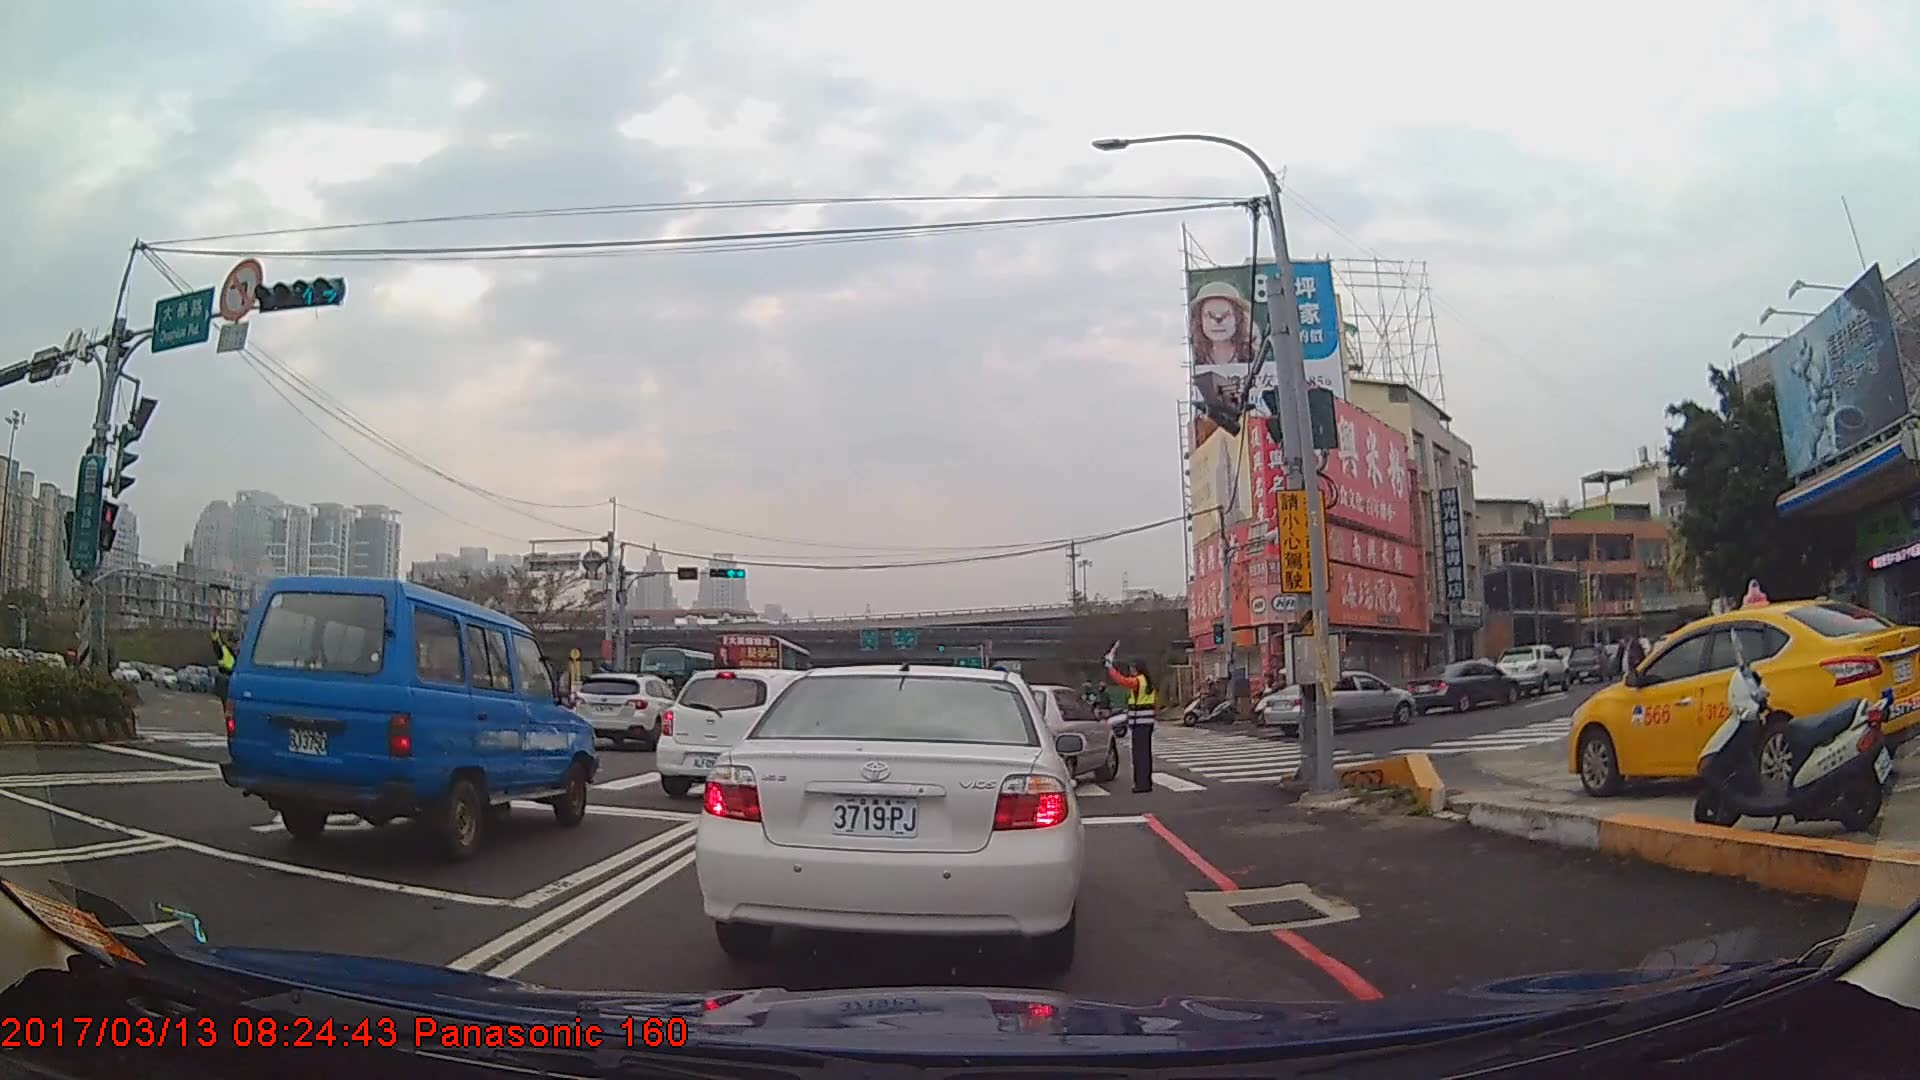pedestrian: (1106, 638, 1159, 792), (211, 633, 252, 759), (1608, 626, 1648, 723)
rider: (1071, 682, 1131, 739), (1253, 667, 1303, 725), (1183, 673, 1235, 727)
vehicle: (695, 661, 1083, 964), (218, 571, 597, 858), (1567, 598, 1920, 797), (654, 667, 856, 799), (981, 682, 1117, 788), (1262, 669, 1416, 738), (566, 671, 684, 748), (712, 633, 812, 718), (1407, 658, 1517, 714), (1496, 645, 1571, 696), (1564, 640, 1614, 685)
